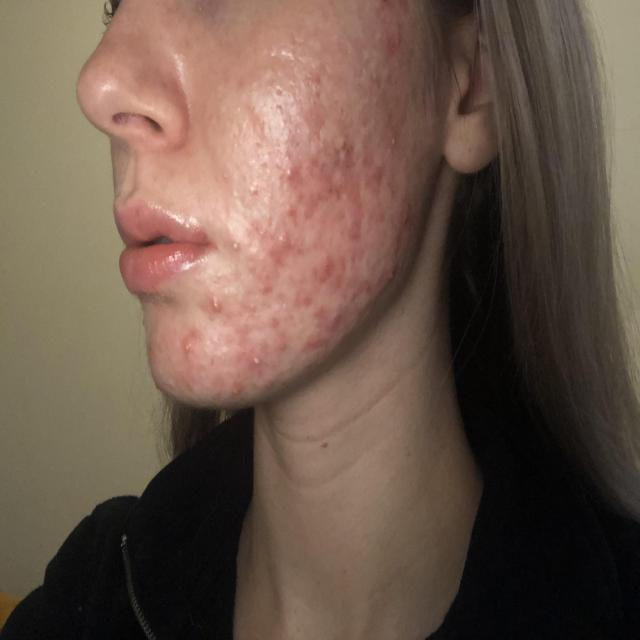Acne: (247, 131, 413, 247), (251, 249, 404, 355), (343, 0, 413, 126), (172, 317, 208, 388), (224, 338, 268, 396), (292, 78, 344, 125), (208, 284, 234, 323)
